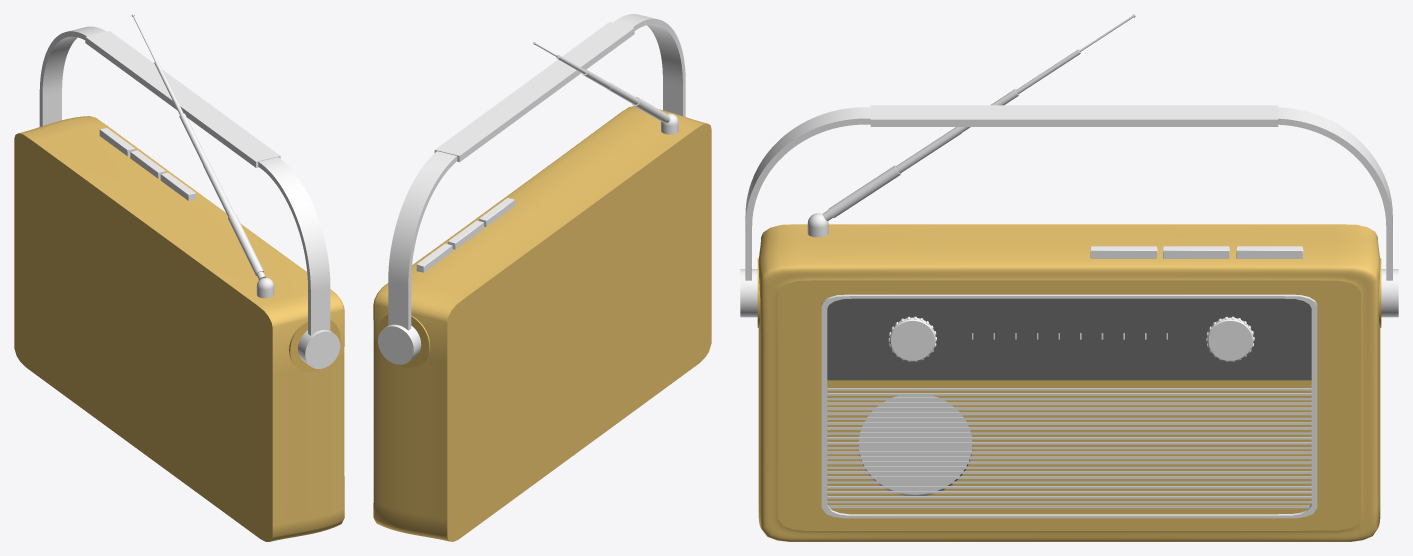
File: radio.glb
3 views of the same model, side by side, from view 1: azimuth 30°, elevation 25°; view 2: azimuth 150°, elevation 25°; view 3: azimuth 270°, elevation 25° (orthographic). The views are drawn at different scales.
Parts seen in each view (by area): view 1: Cap_1_65, Budowa, Cube_3, Cube, Cube_1, Cylinder_1_2, Cylinder_2_2, Cylinder_1, Cylinder_2, Cube_2_2, Cube_2, Cube_1_2; view 2: Cap_1_65, Budowa, Cube_3, Cube_1, Cube, Cylinder_1_2, Cylinder_2_2, Cube_2, Cube_1_2, Cube_2_2; view 3: Cap_2_65, Budowa, Cap_2_62, Cube_3, Cap_2_63, Cap_1_64, Cube, Cube_1, Cube_10, Cube_11, Cube_19, Cube_20 (+30 smaller).
Part boxes in pixels (<box>): Cap_1_65: <box>14,133,272,541</box>; Budowa: <box>19,116,344,541</box>; Cube_3: <box>85,31,280,167</box>; Cube: <box>258,157,330,335</box>; Cube_1: <box>39,26,105,126</box>; Cylinder_1_2: <box>298,330,340,368</box>; Cylinder_2_2: <box>289,320,340,371</box>; Cylinder_1: <box>228,214,263,275</box>; Cylinder_2: <box>203,162,234,216</box>; Cube_2_2: <box>160,172,195,200</box>; Cube_2: <box>99,128,134,156</box>; Cube_1_2: <box>130,150,165,178</box>; Cap_1_65: <box>447,123,711,541</box>; Budowa: <box>373,106,707,541</box>; Cube_3: <box>434,22,634,162</box>; Cube_1: <box>388,151,457,330</box>; Cube: <box>613,14,685,116</box>; Cylinder_1_2: <box>378,324,421,364</box>; Cylinder_2_2: <box>377,314,430,367</box>; Cube_2: <box>416,243,452,272</box>; Cube_1_2: <box>448,220,483,249</box>; Cube_2_2: <box>479,198,514,226</box>; Cap_2_65: <box>778,280,1360,530</box>; Budowa: <box>758,224,1380,541</box>; Cap_2_62: <box>827,298,1311,380</box>; Cube_3: <box>870,105,1278,126</box>; Cap_2_63: <box>821,296,1317,518</box>; Cap_1_64: <box>858,395,972,494</box>; Cube: <box>745,107,870,280</box>; Cube_1: <box>1278,107,1392,280</box>; Cube_10: <box>827,456,1311,459</box>; Cube_11: <box>827,451,1311,454</box>; Cube_19: <box>827,412,1311,415</box>; Cube_20: <box>827,407,1311,410</box>.
Size of the model in its own units: 1.22 by 6.1 by 7.3.
